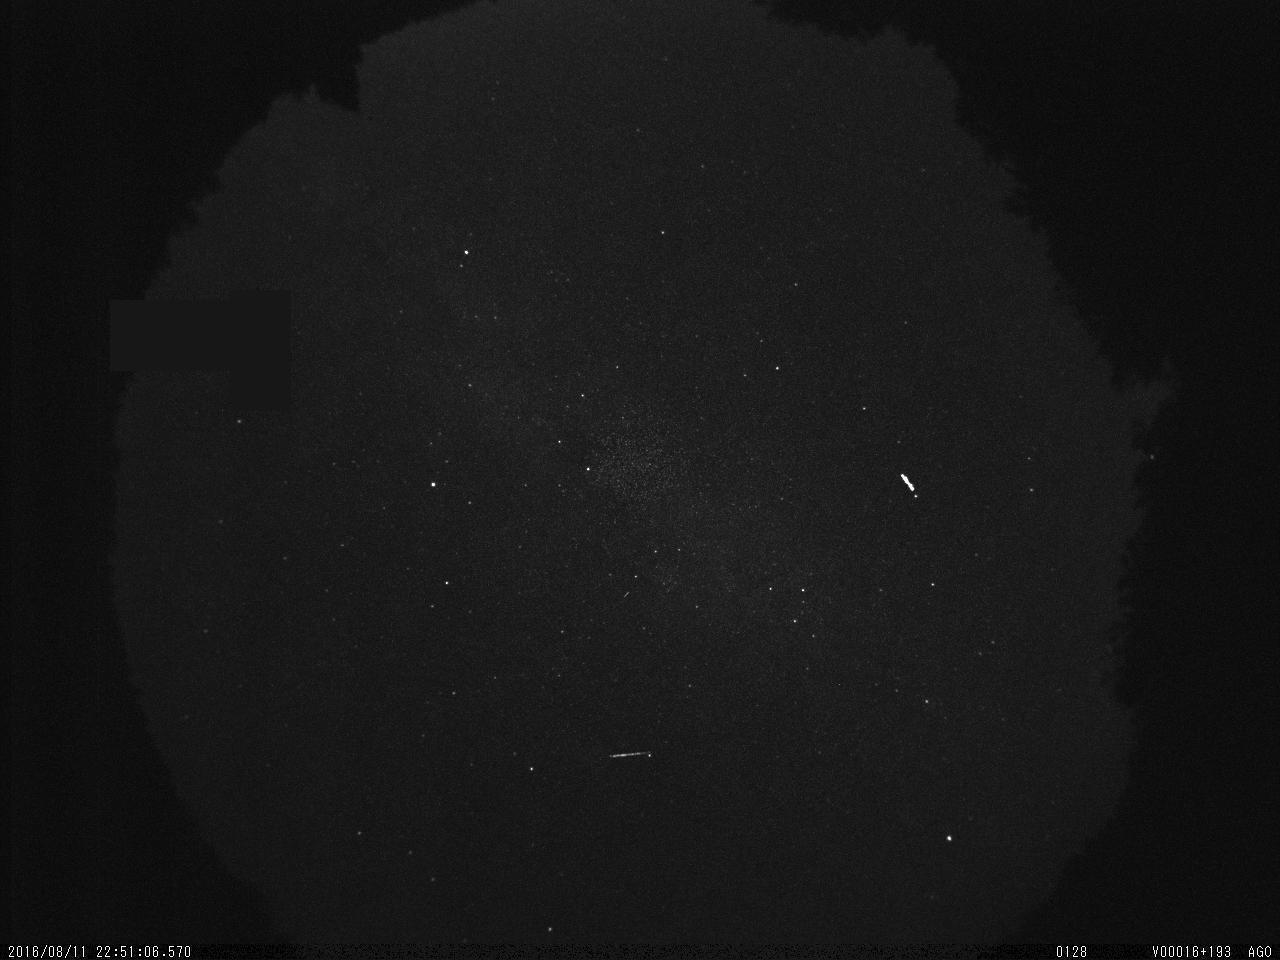Meteor: (609, 747, 649, 763)
